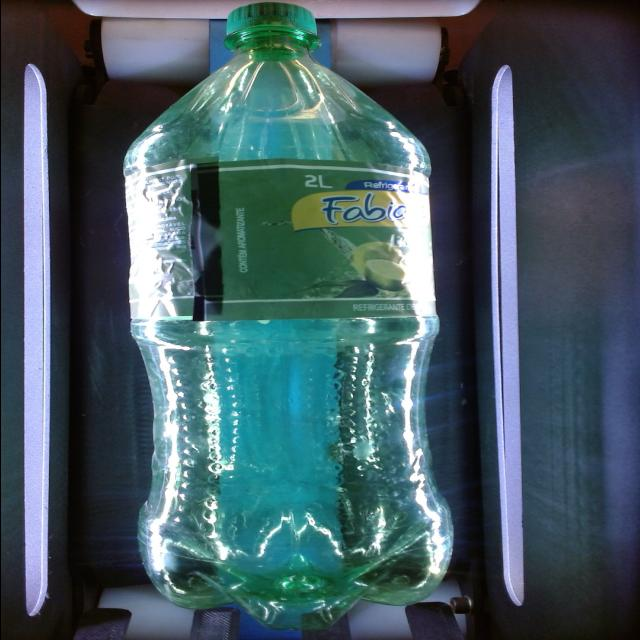bottom: (124, 518, 468, 636)
cap: (207, 1, 339, 78)
